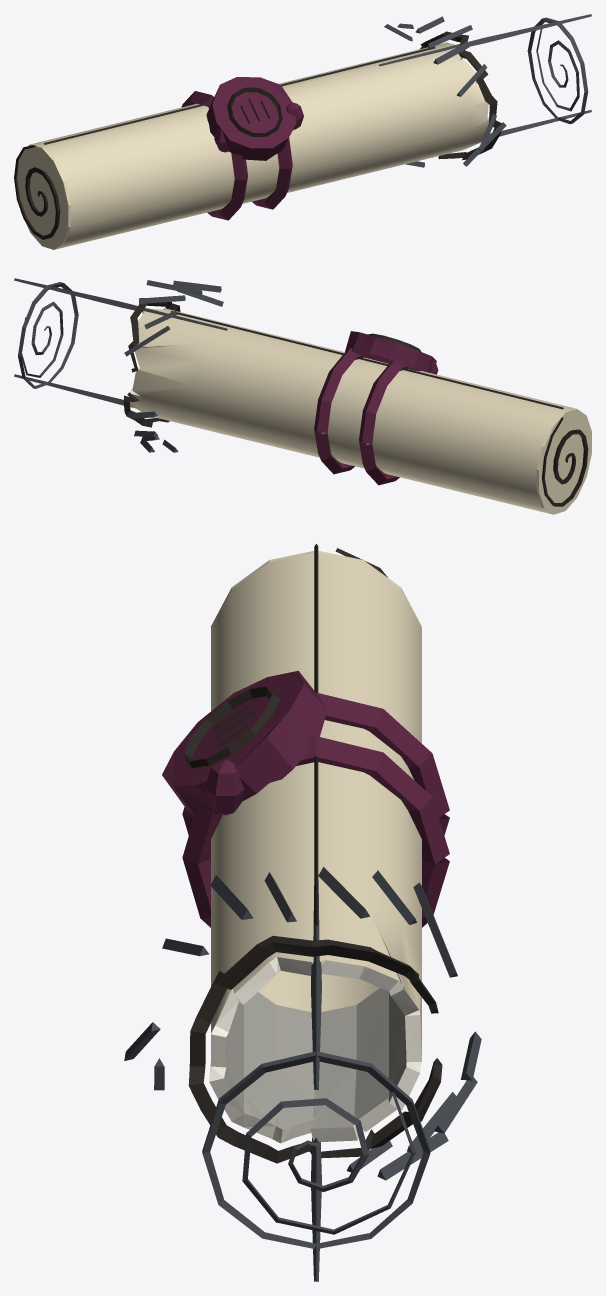
The model's file is DecreeScroll.fbx.
3 views of the same model, one above another, from view 1: azimuth 30°, elevation 25°; view 2: azimuth 150°, elevation 25°; view 3: azimuth 270°, elevation 25° (orthographic). The views are drawn at different scales.
Visible parts, largest first — view 1: Scroll, Lines, Seal; view 2: Scroll, Lines, Seal; view 3: Scroll, Lines, Seal.
Part boxes in pixels (box(x1,y1,x2,y2)): Scroll: box(17, 42, 492, 249); Lines: box(14, 14, 591, 239); Seal: box(181, 77, 303, 220); Scroll: box(130, 308, 591, 514); Lines: box(14, 278, 588, 506); Seal: box(314, 331, 438, 485); Scroll: box(209, 550, 421, 1143); Lines: box(124, 544, 481, 1281); Seal: box(162, 670, 449, 927).
Bounding box in the file's own units: 0.4951 × 0.1257 × 0.1386.
